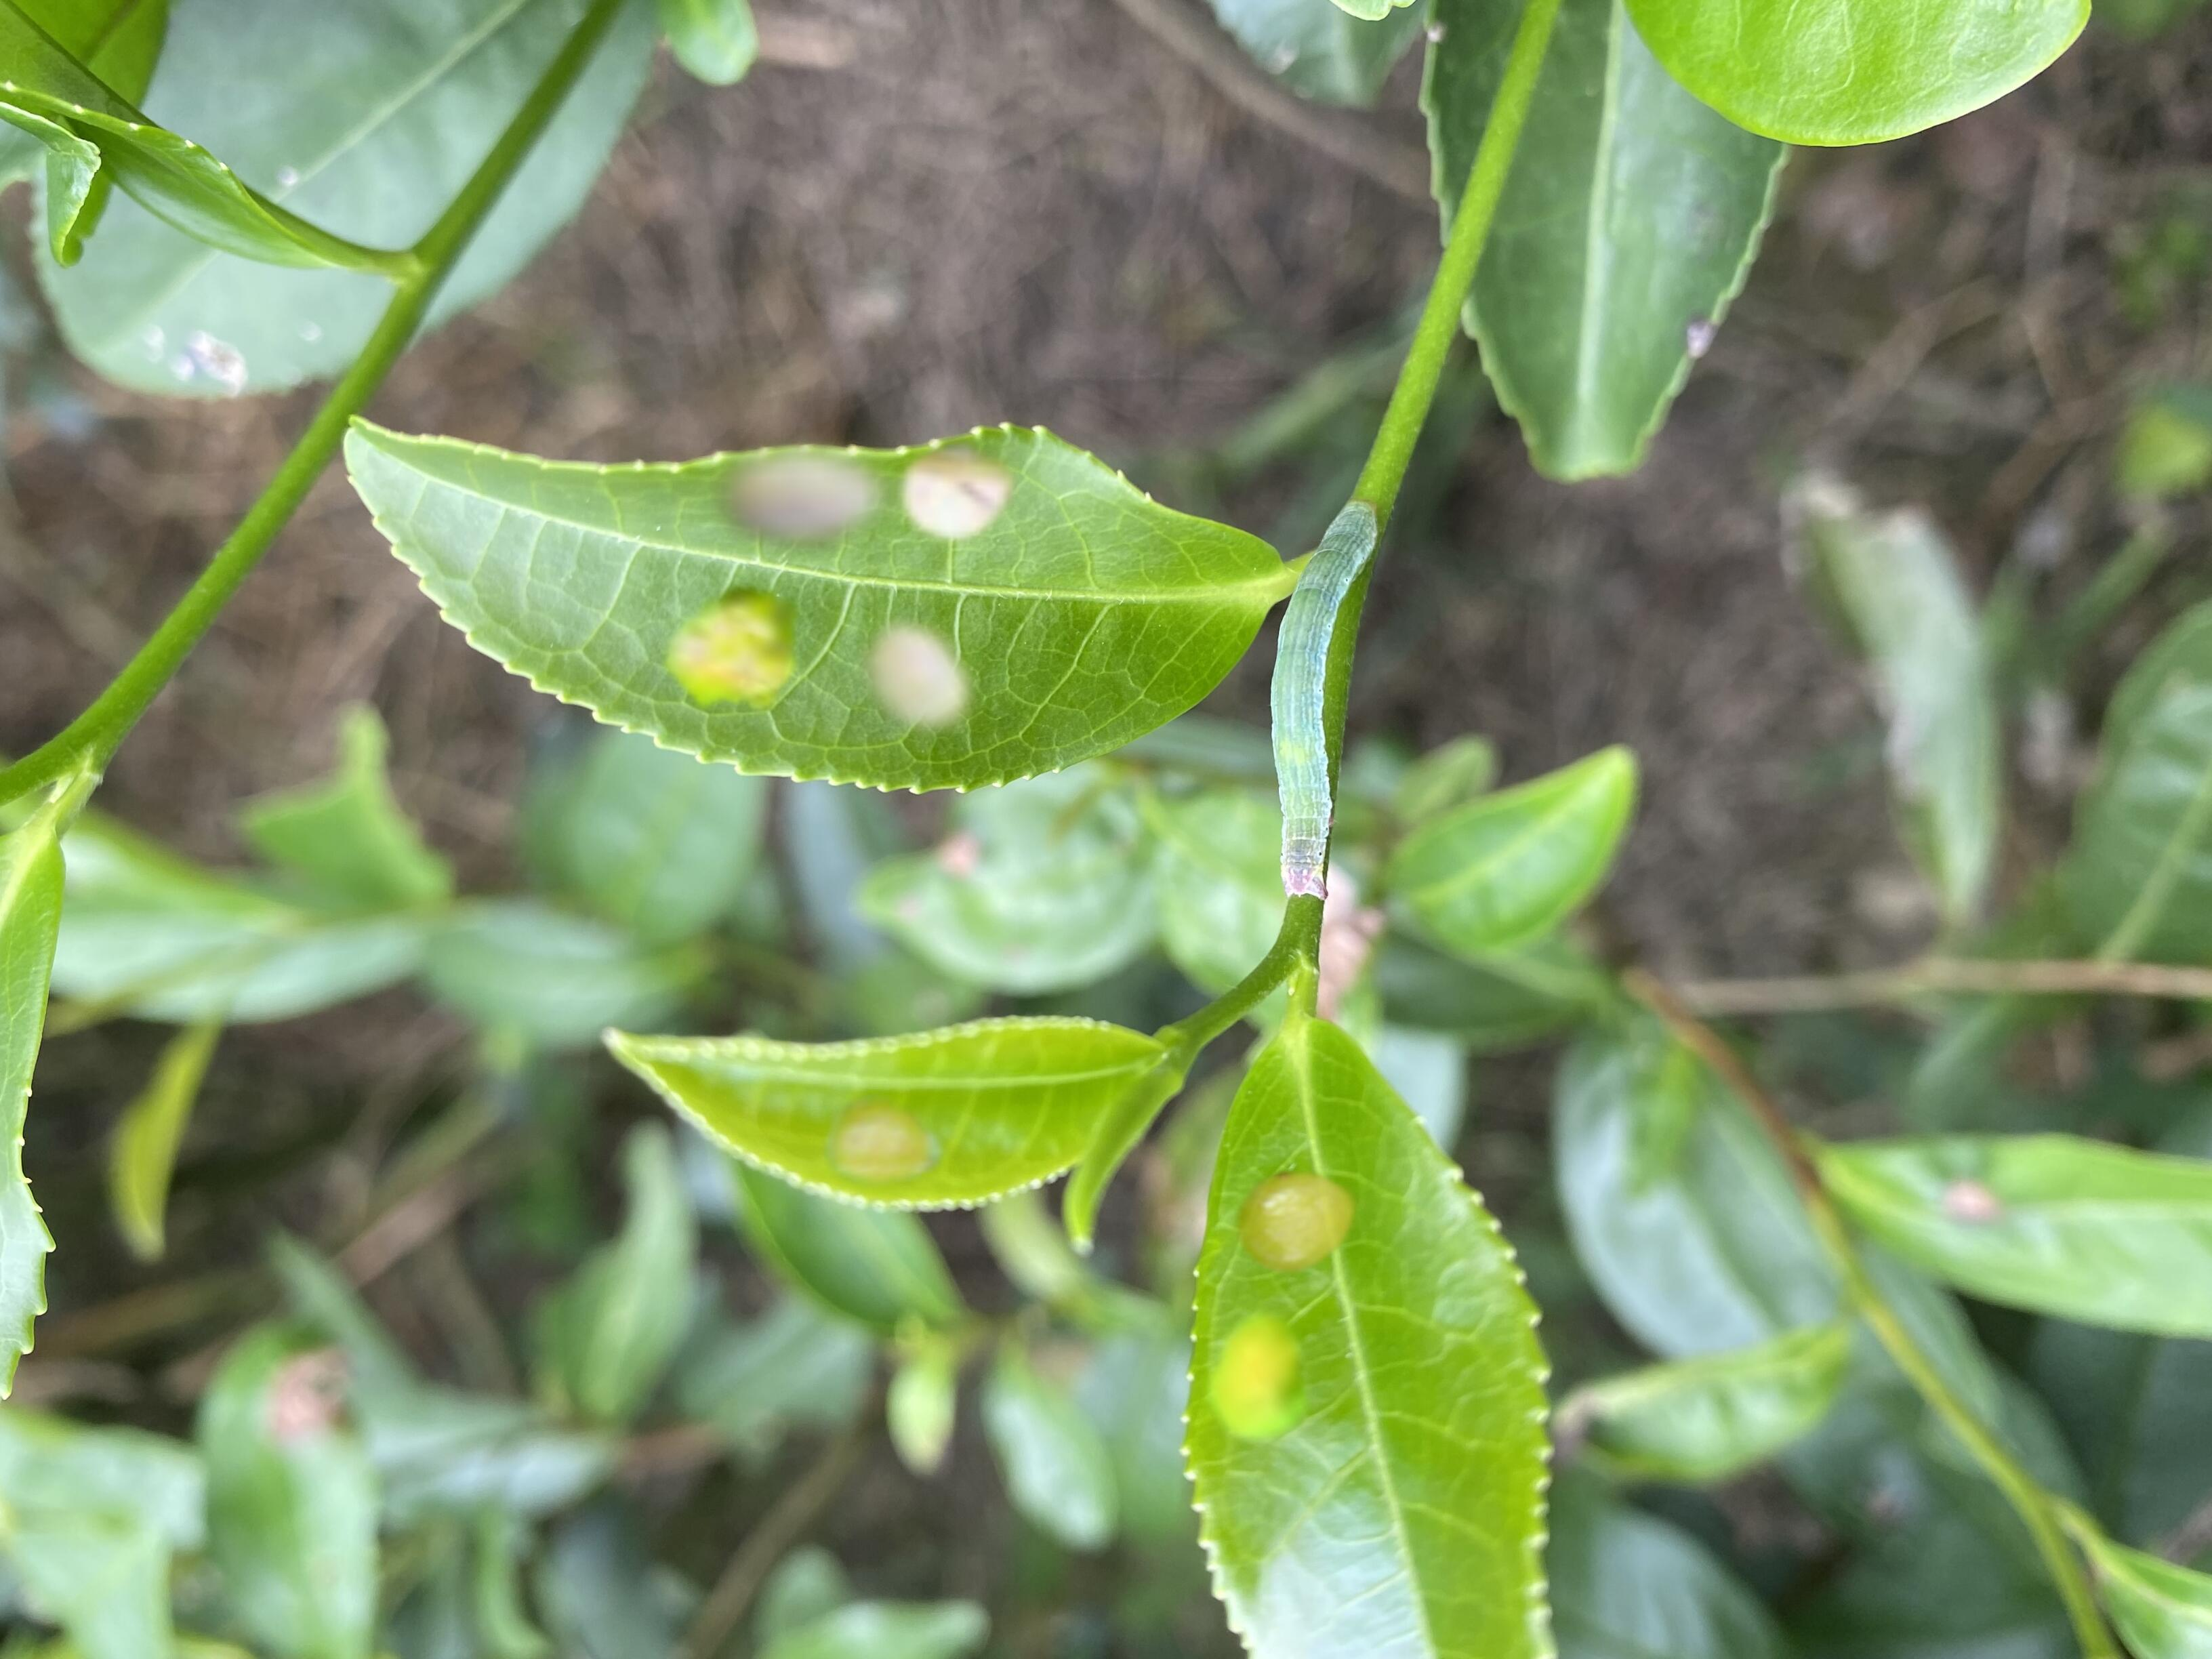chabing_high: (341, 411, 1277, 798), (1183, 1018, 1569, 1656)
chabing_low: (599, 1018, 1169, 1209)
